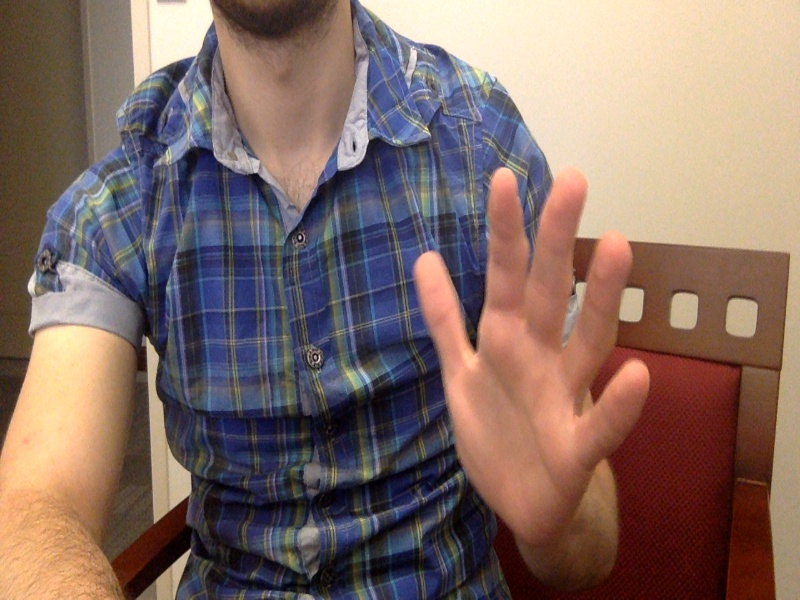5-hand: (414, 169, 648, 544)
